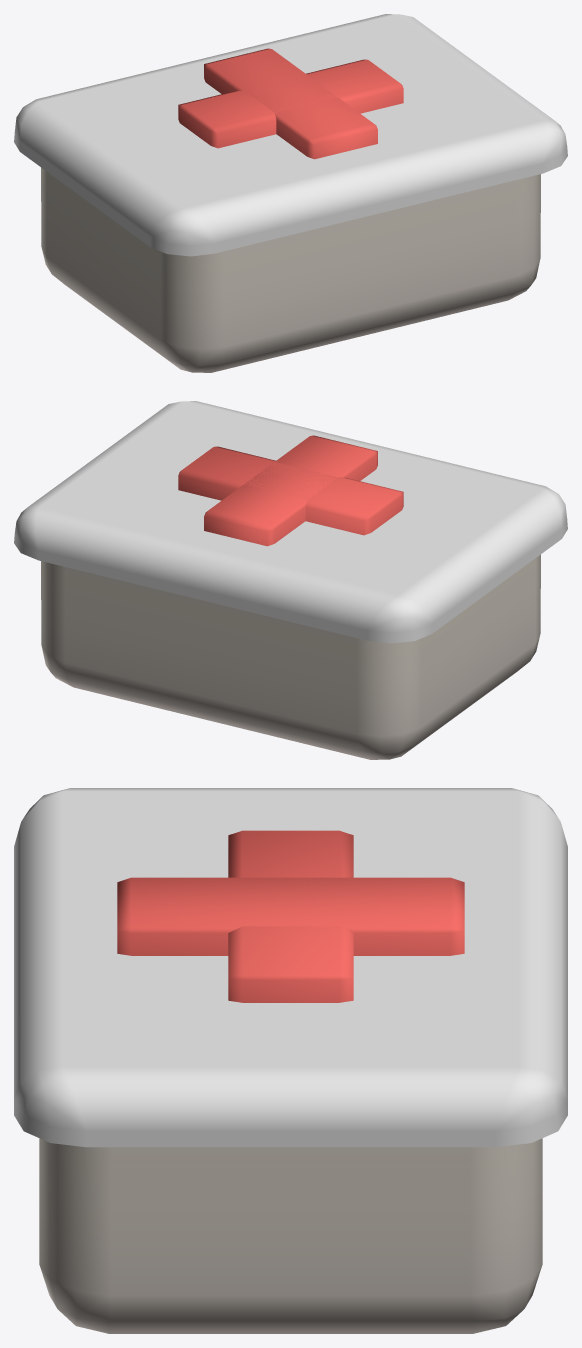
Rendered from Medkit.fbx.
3 renders of one model, top to bottom at view 1: azimuth 30°, elevation 25°; view 2: azimuth 150°, elevation 25°; view 3: azimuth 270°, elevation 25°, orthographic. The views are drawn at different scales.
Parts seen in each view (by area): view 1: Medkit; view 2: Medkit; view 3: Medkit.
Boxes of the visible parts, x1,y1,x2,y2 form: Medkit: (14,14,567,372); Medkit: (14,401,567,759); Medkit: (14,788,567,1333).
Bounding box in the file's own units: 1.86 × 0.8534 × 1.37.
